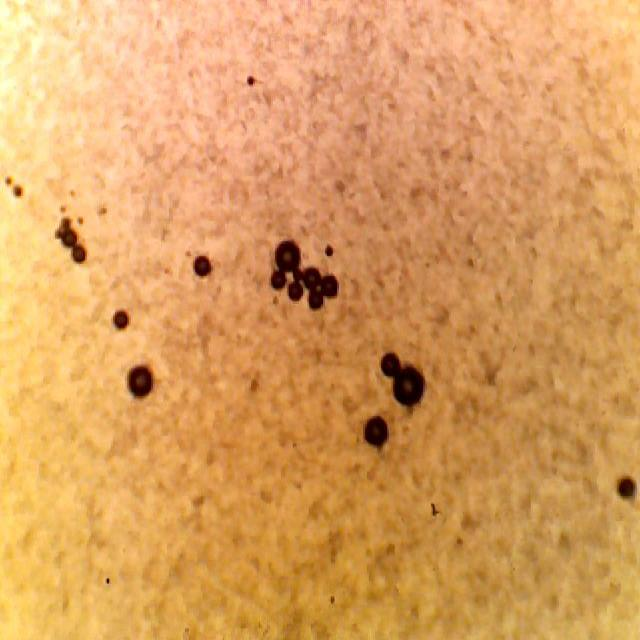fragment: (364, 411, 392, 452)
